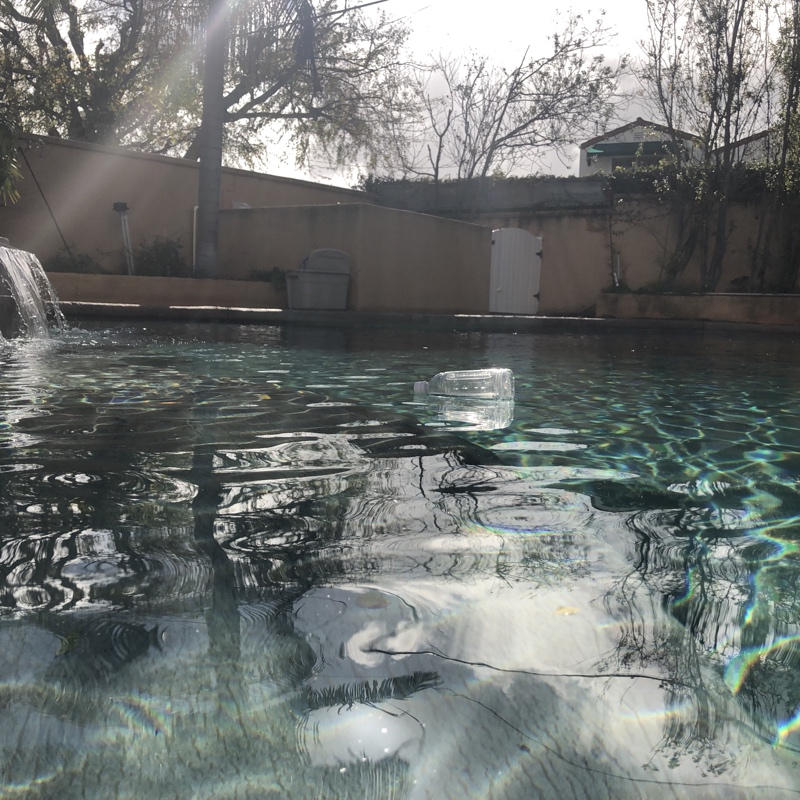Plastic Bottle: (408, 362, 519, 406)
